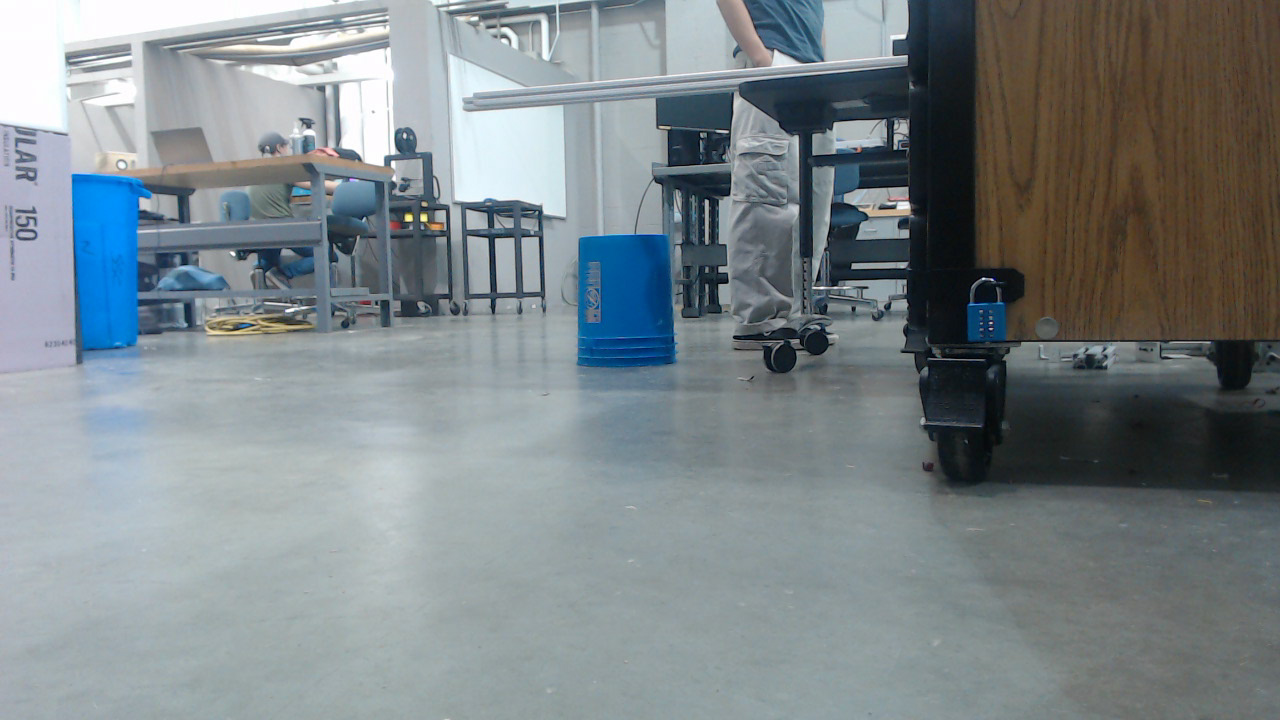blue_bucket: (580, 241, 684, 370)
